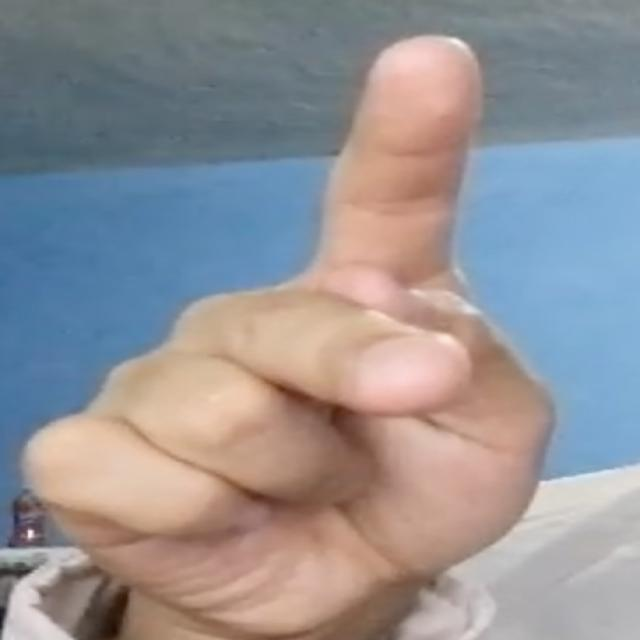Z: (18, 26, 615, 628)
